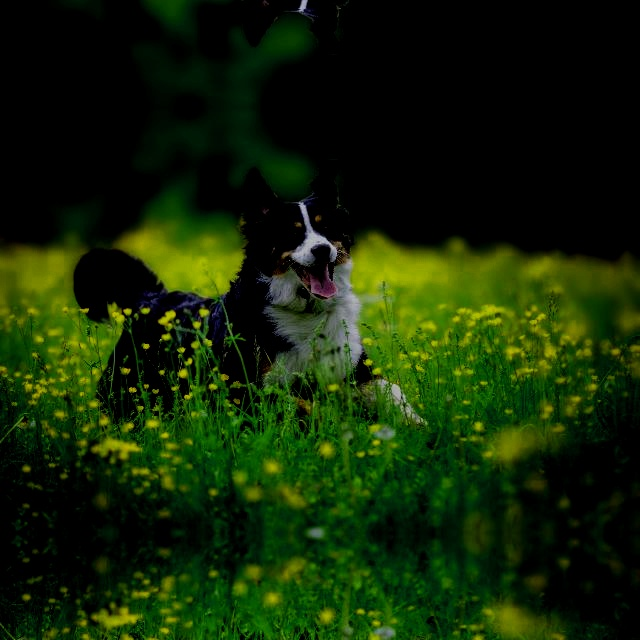dog: (74, 145, 427, 432), (73, 0, 426, 66), (73, 633, 426, 640)
